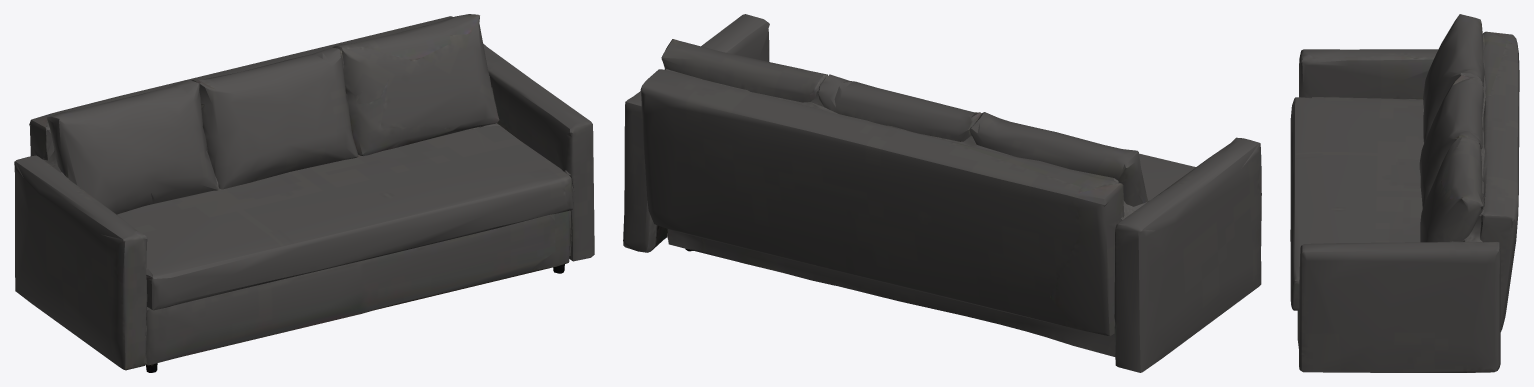
The picture shows the model from 3 angles, left to right: view 1: azimuth 30°, elevation 25°; view 2: azimuth 150°, elevation 25°; view 3: azimuth 270°, elevation 25°; orthographic projection. The views are drawn at different scales.
Visible parts, largest first — view 1: ProcessedMeshNode; view 2: ProcessedMeshNode; view 3: ProcessedMeshNode.
Boxes of the visible parts, x1=… form: ProcessedMeshNode: x1=14, y1=14, x2=594, y2=372; ProcessedMeshNode: x1=623, y1=14, x2=1261, y2=372; ProcessedMeshNode: x1=1290, y1=14, x2=1519, y2=372.
Size of the model in its own units: 2.27 by 0.8847 by 1.05.
1 material, 1 textured.
